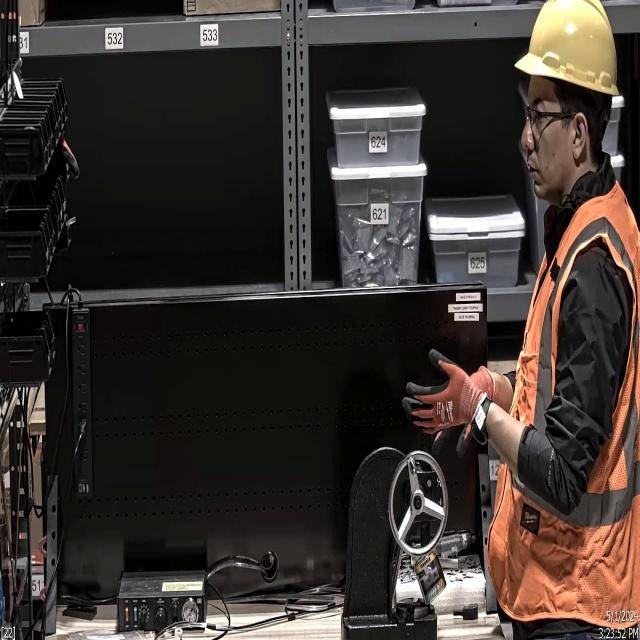construction-gloves: (402, 349, 493, 441)
